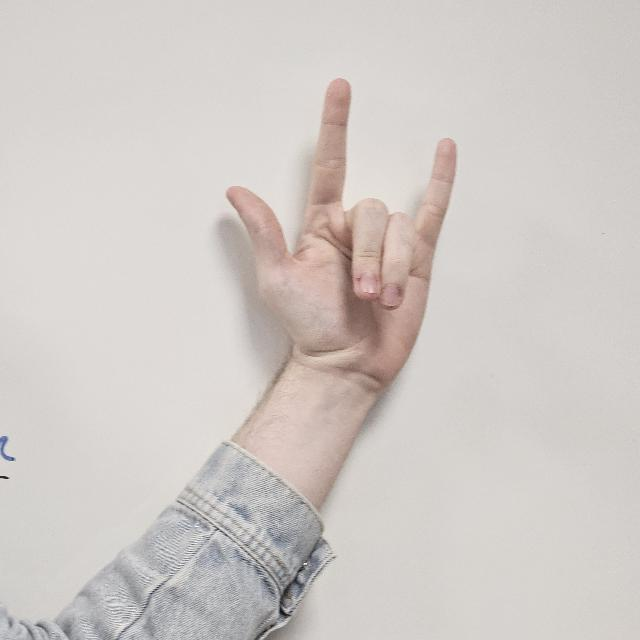Cima: (223, 76, 459, 388)
